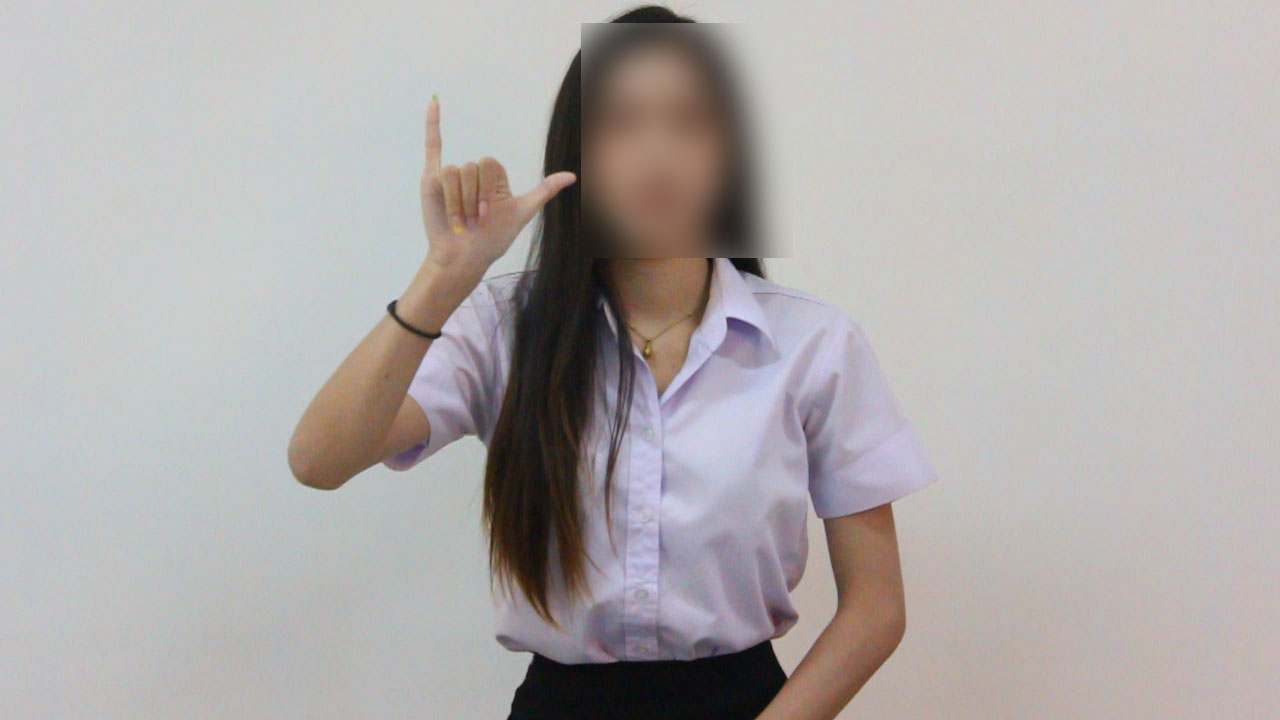yor: (395, 82, 587, 317)
